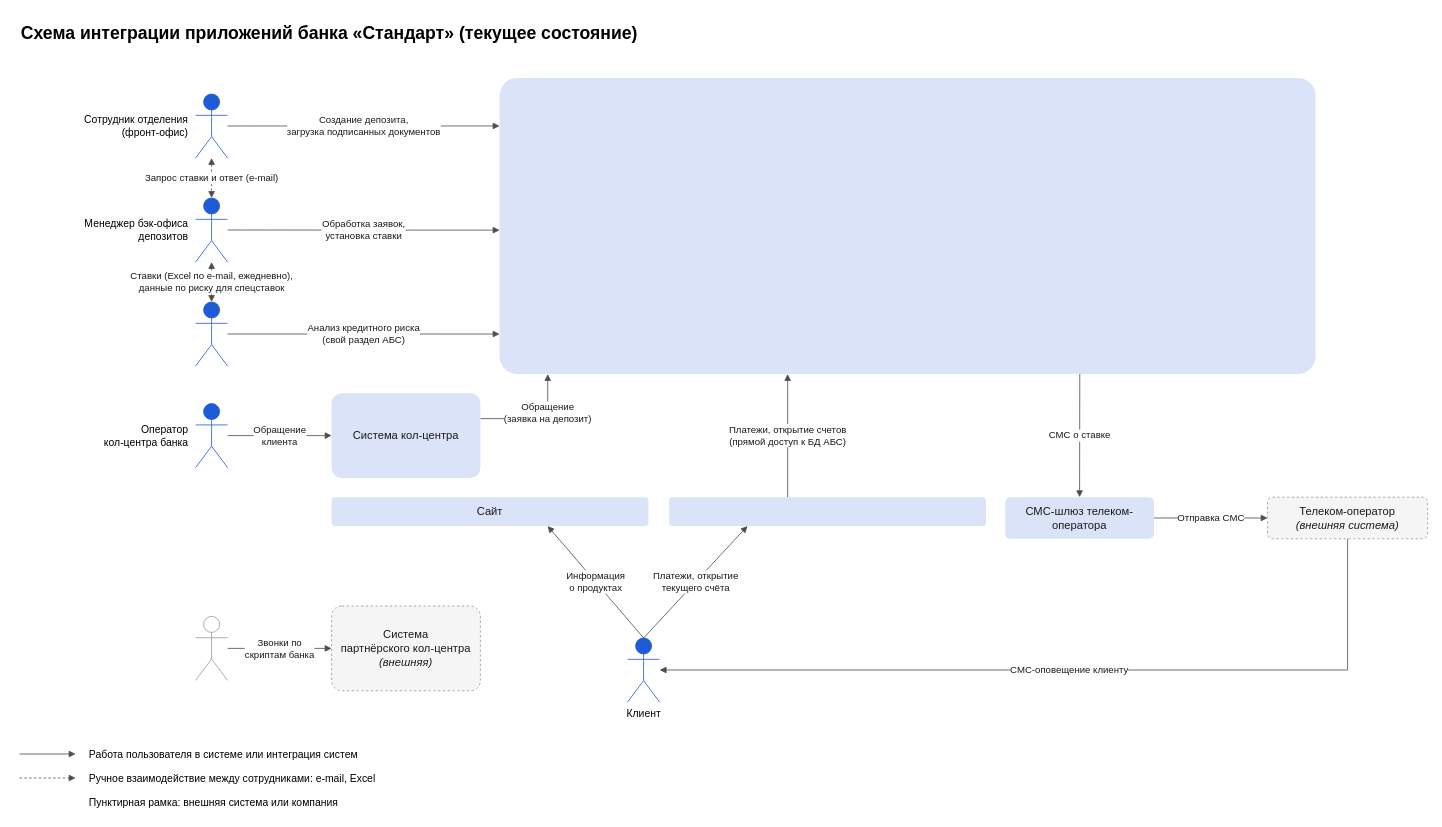
The diagram is 1442 pixels wide and 827 high, and some of its shapes have lost their labels. The box of each missing label's shape, as (x1, y1, x2, y2) in pixels:
АБС: (499, 78, 1315, 374)
Интернет-банк: (669, 497, 986, 526)
Оператор партнёрского кол-центра (внешняя компания): (195, 616, 228, 680)
Сотрудник отдела кредитования: (195, 301, 228, 366)
